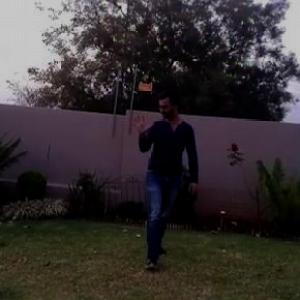follow_hand: (127, 110, 149, 136)
